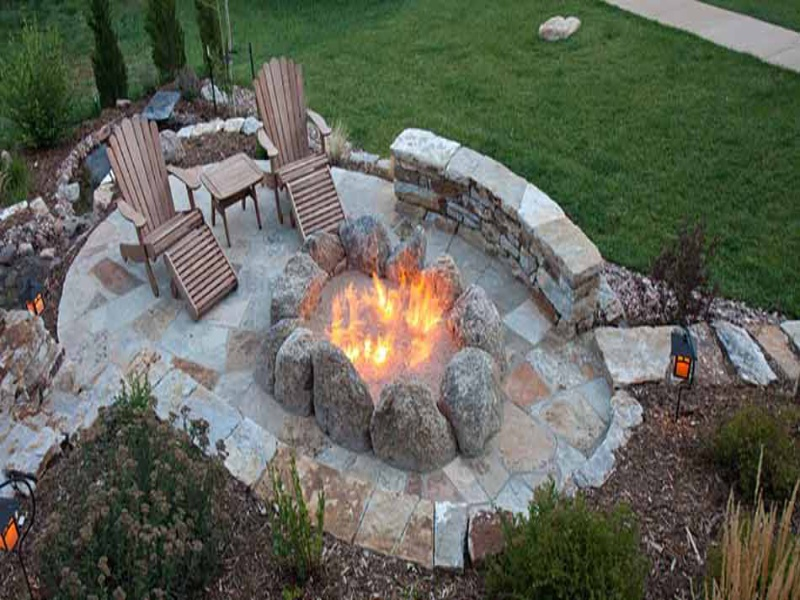fire: (322, 281, 442, 361)
